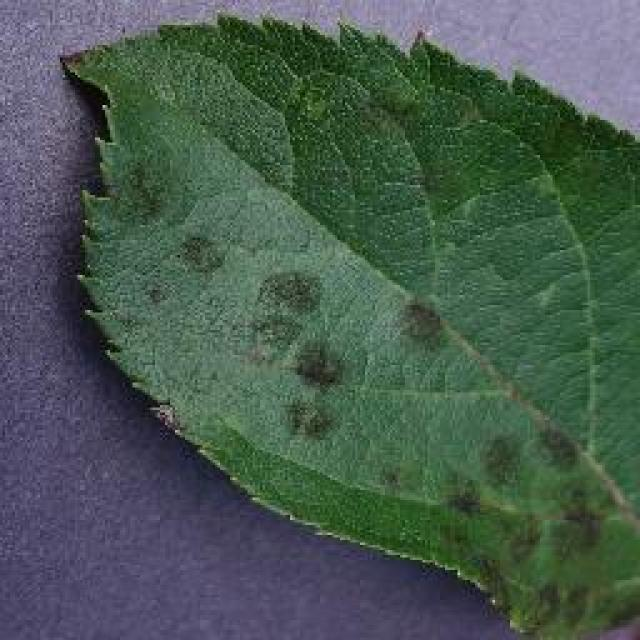apple scab disease: (58, 10, 638, 638)
